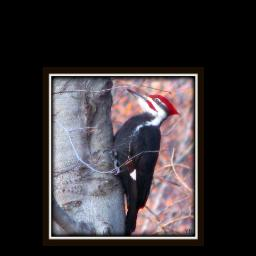Woodpecker: (103, 88, 180, 237)
